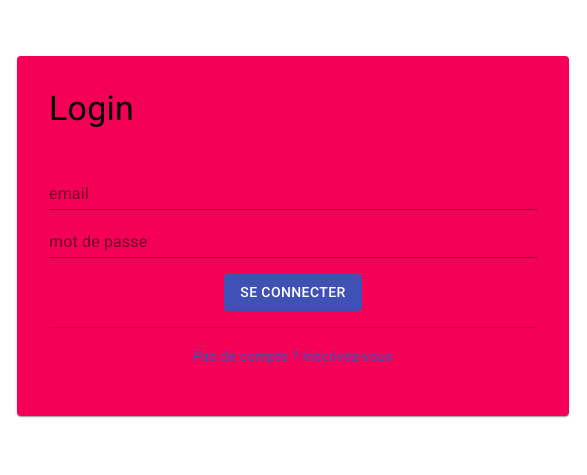
Scenario: Login form › opens a sign-up form then return to the login page
Click the link "Pas de compte ? Inscrivez-vous" at (293, 356), box x1=193 y1=348 x2=393 y2=364
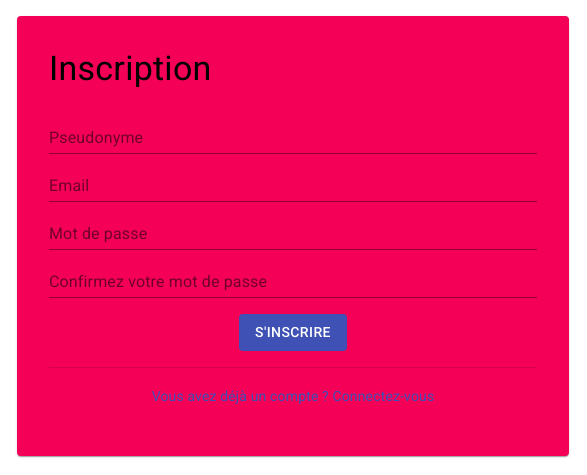
Check: the password field labelled "Confirmez votre mot de passe" is shown, box x1=49 y1=266 x2=537 y2=298
Click the link "Vous avez déjà un compte ? Connectez-vous" at (293, 396), box x1=152 y1=388 x2=434 y2=404
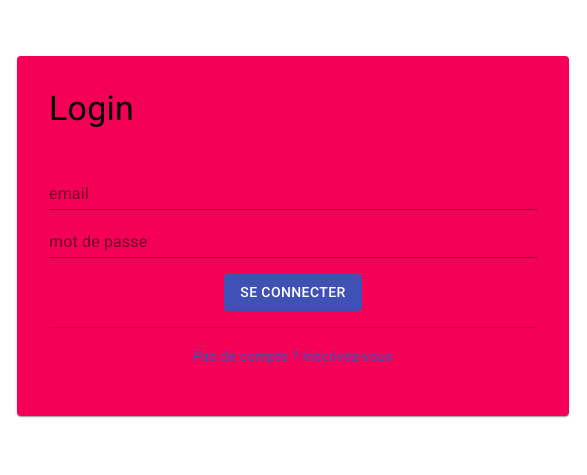
Check: the button "Se connecter" is shown, box x1=224 y1=274 x2=362 y2=311
